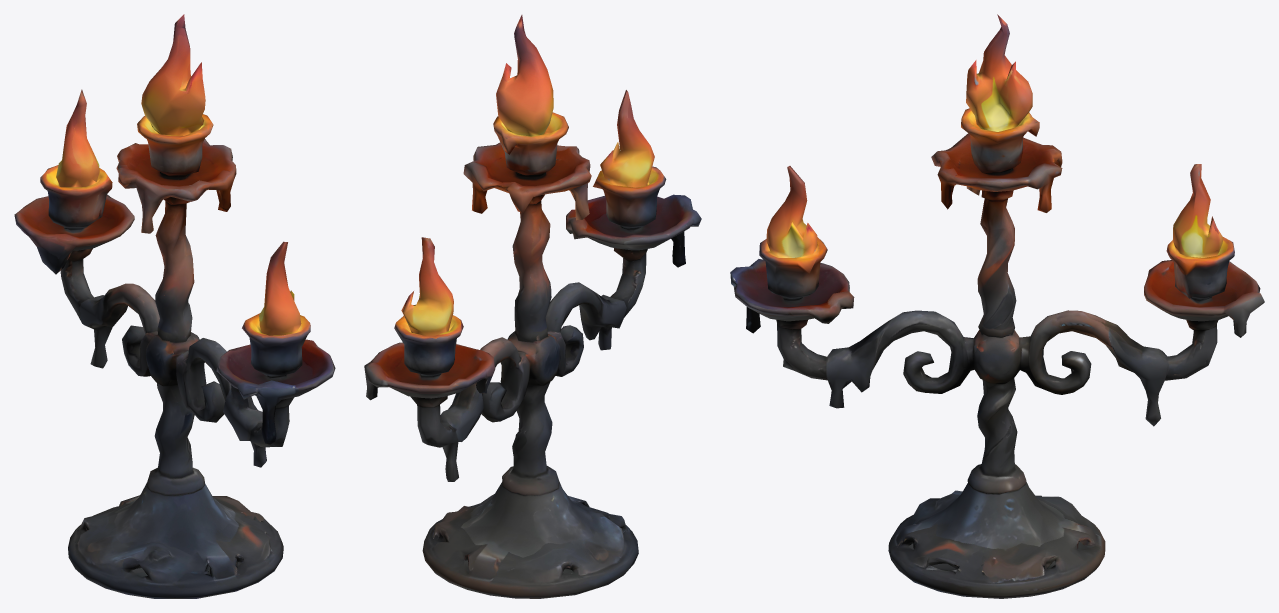
Rendered from iron+candelabra+3d+model.obj.
3 renders of one model, left to right at view 1: azimuth 30°, elevation 25°; view 2: azimuth 150°, elevation 25°; view 3: azimuth 270°, elevation 25°, orthographic.
Visible parts, largest first — view 1: tripo_node_59590f0b-8ad6-417d-9715-2d33bd6d4f76; view 2: tripo_node_59590f0b-8ad6-417d-9715-2d33bd6d4f76; view 3: tripo_node_59590f0b-8ad6-417d-9715-2d33bd6d4f76.
Boxes of the visible parts, bbox=[...] form: tripo_node_59590f0b-8ad6-417d-9715-2d33bd6d4f76: bbox=[14, 14, 335, 598]; tripo_node_59590f0b-8ad6-417d-9715-2d33bd6d4f76: bbox=[364, 15, 701, 598]; tripo_node_59590f0b-8ad6-417d-9715-2d33bd6d4f76: bbox=[730, 14, 1264, 598].
Bounding box in the file's own units: 0.3635 × 1 × 0.8911.
1 material, 1 textured.
